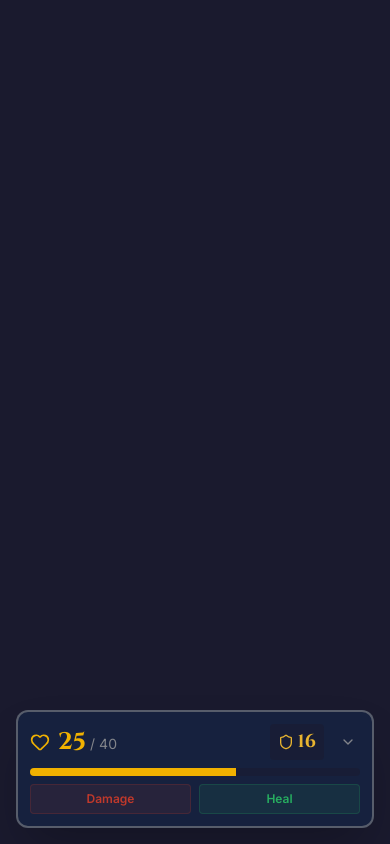
Test: CompactHPWidget › opens damage modal when HP area is tapped
Click the button with test id "hp-tap-area". click: coordinates (144, 742)
box: x1=30 y1=726 x2=258 y2=758
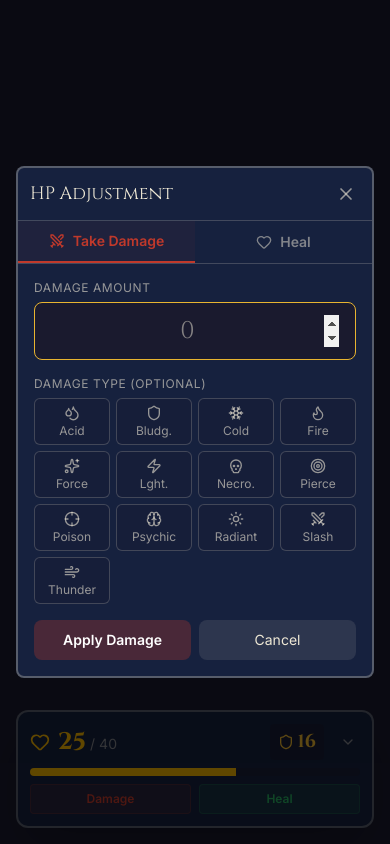
Result: the dialog with test id "damage-heal-modal" is shown
